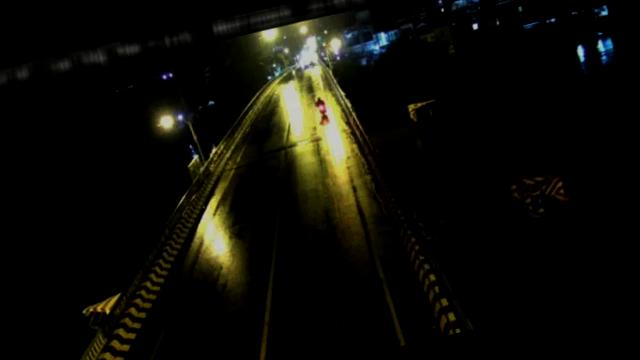Bike: (311, 92, 330, 122)
